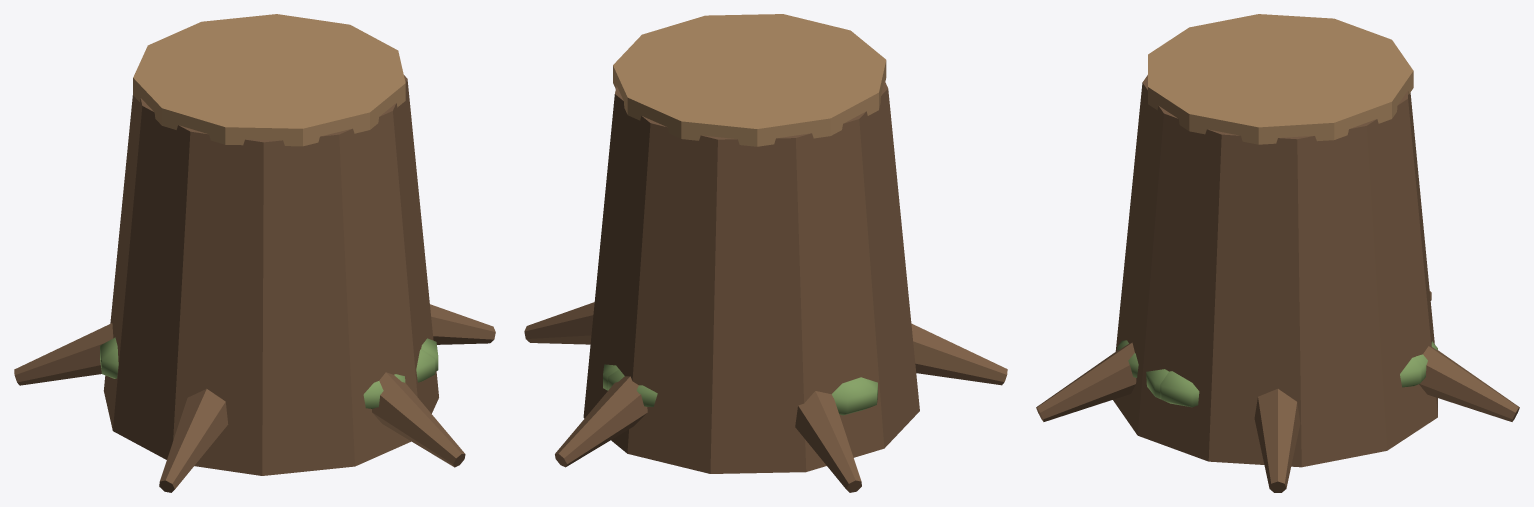
File: stump_mossy_spring.glb
The picture shows the model from 3 angles, left to right: view 1: azimuth 30°, elevation 25°; view 2: azimuth 150°, elevation 25°; view 3: azimuth 270°, elevation 25°; orthographic projection. The views are drawn at different scales.
Visible parts, largest first — view 1: stump_mossy_spring; view 2: stump_mossy_spring; view 3: stump_mossy_spring.
Boxes of the visible parts, x1,y1,x2,y2 form: stump_mossy_spring: [14, 14, 495, 492]; stump_mossy_spring: [524, 14, 1007, 492]; stump_mossy_spring: [1036, 14, 1519, 492].
Bounding box in the file's own units: 1.33 × 1.04 × 1.39.
